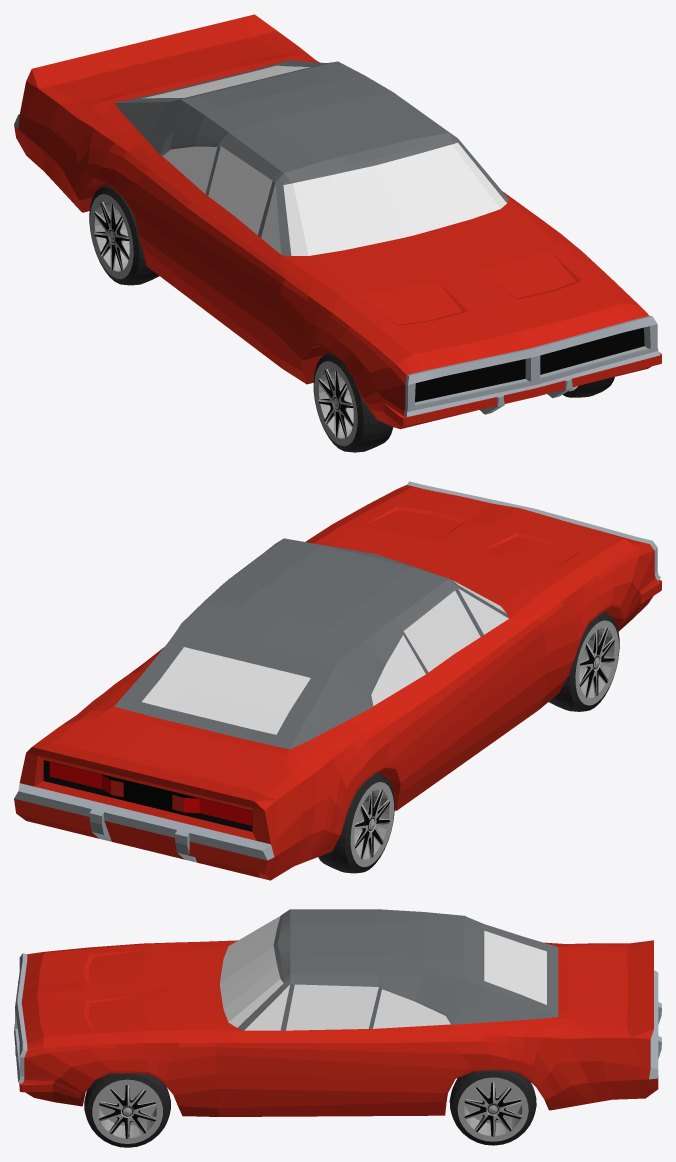
The model's file is dodge.gltf.
3 views of the same model, one above another, from view 1: azimuth 30°, elevation 25°; view 2: azimuth 150°, elevation 25°; view 3: azimuth 270°, elevation 25° (orthographic). The views are drawn at different scales.
Visible parts, largest first — view 1: node-0; view 2: node-0; view 3: node-0.
Part boxes in pixels (x1,y1,x2,y2): node-0: (14,14,661,452); node-0: (14,481,661,880); node-0: (14,909,661,1147).
Bounding box in the file's own units: 2.56 × 1.77 × 6.48.
